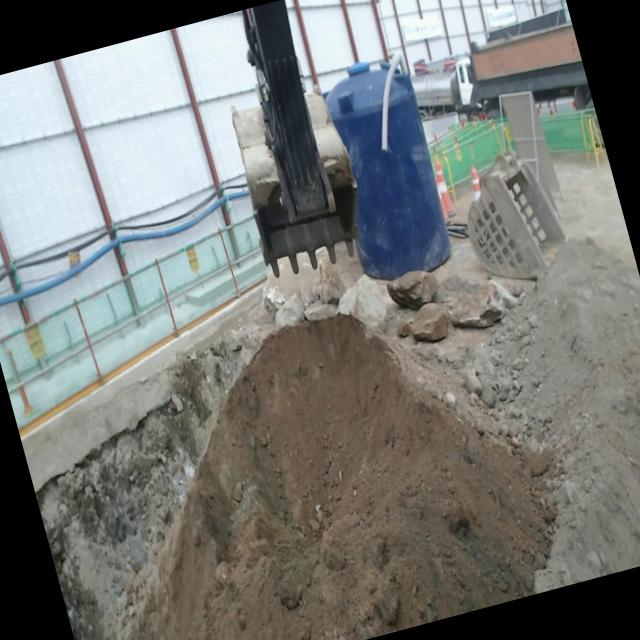red-sand: (145, 316, 548, 640)
stone: (441, 280, 516, 328), (337, 275, 386, 327), (386, 270, 438, 310), (408, 302, 450, 341)
white-sand: (412, 164, 640, 593), (35, 335, 256, 640)
